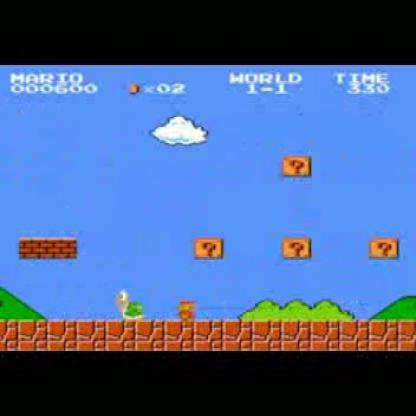Tortuga: (115, 286, 147, 321)
